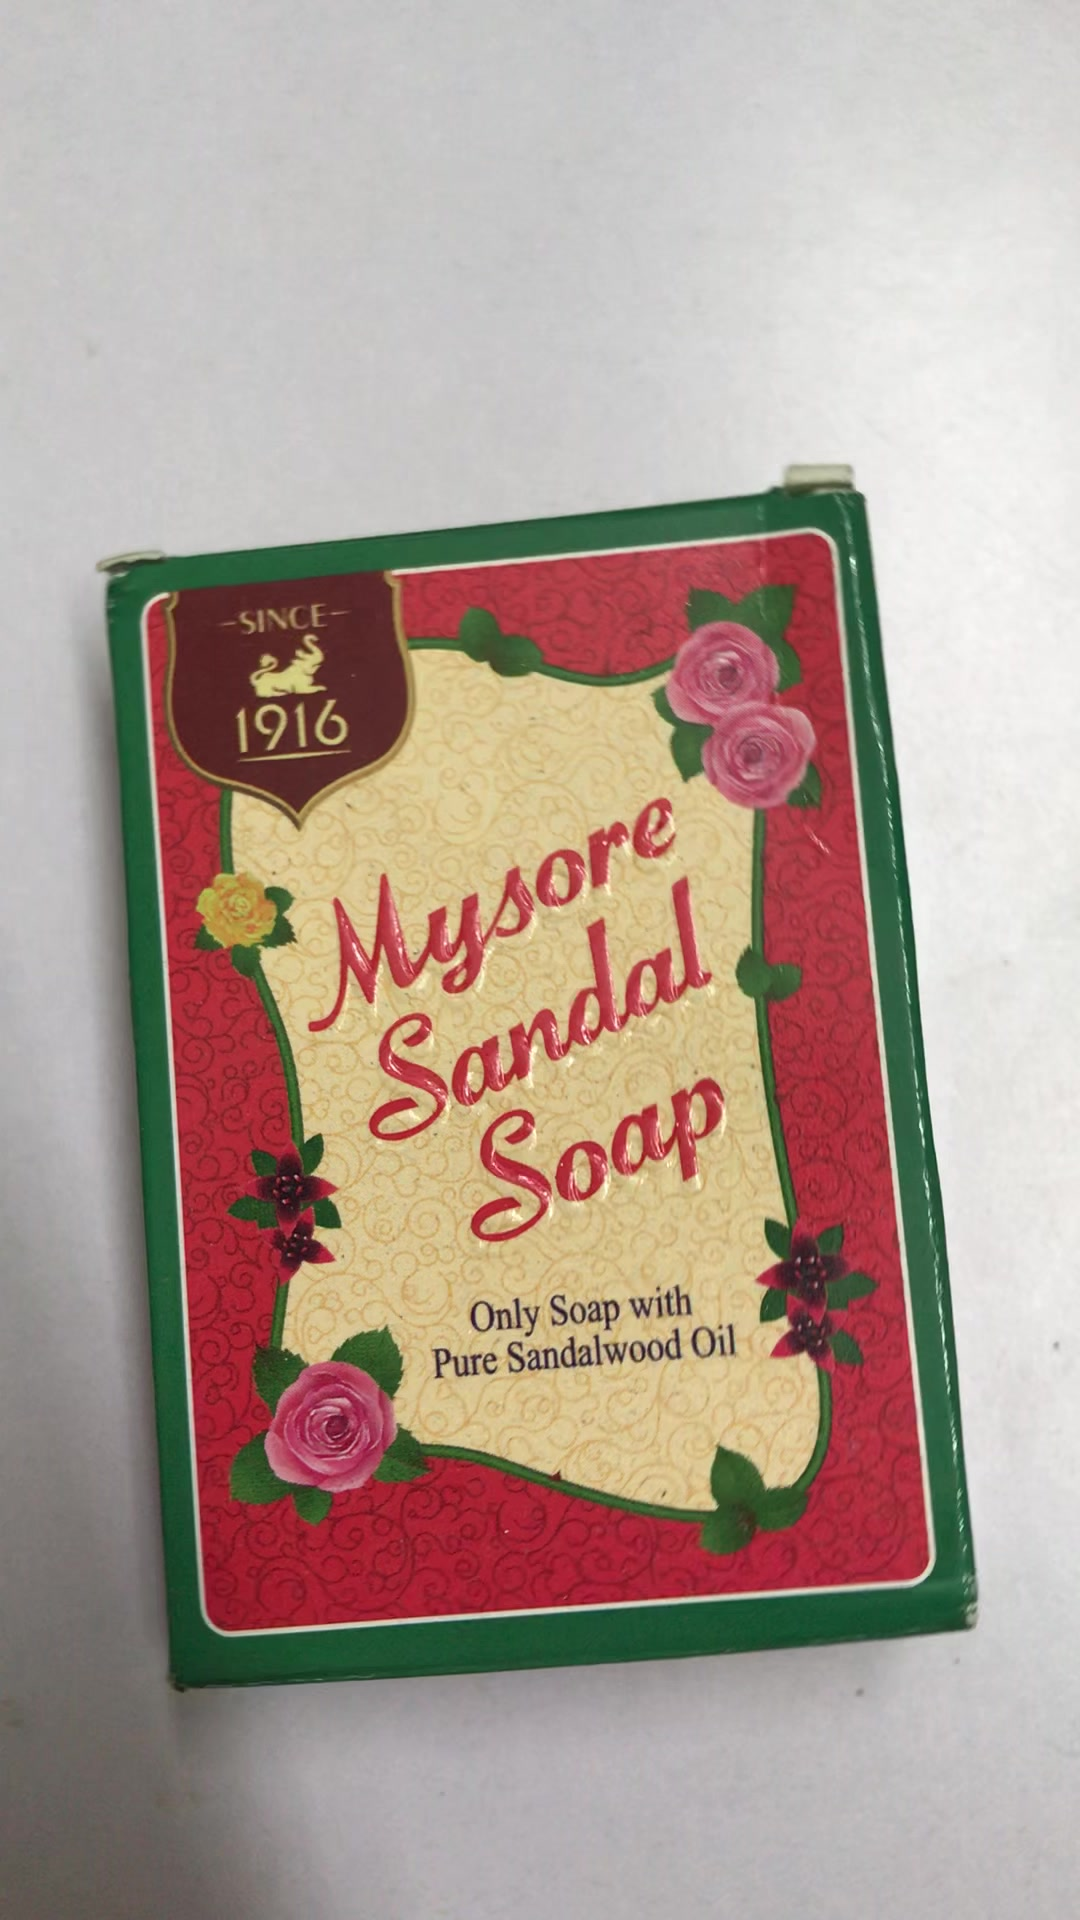mysore sandal soap: (107, 488, 980, 1687)
